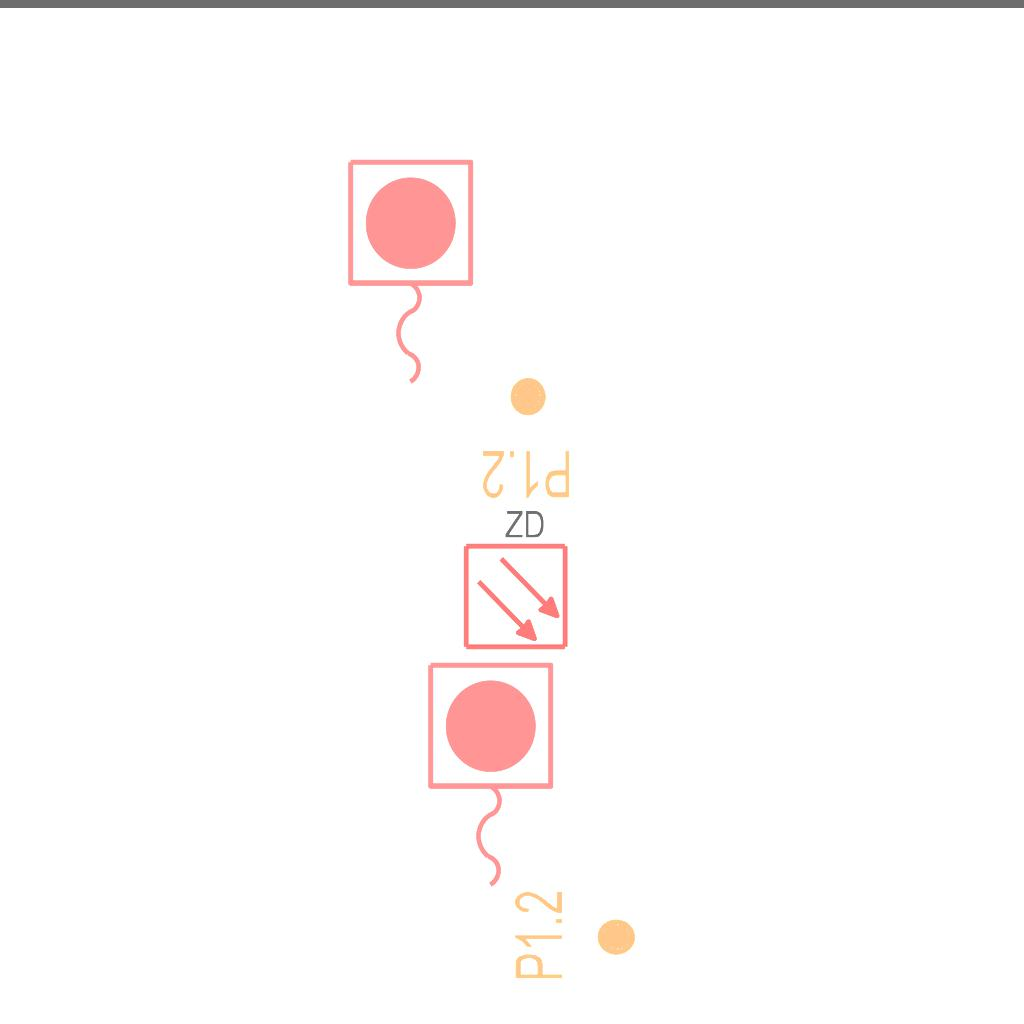Downlight_LED_Einbauleuchten_Flur: (480, 374, 573, 502), (511, 889, 639, 982)
ZD_Melder_in_Zwischendecke_mit_Revisionsoeffnung_mind_40_x_40_cm: (457, 503, 571, 652)
Zugtaster: (417, 654, 561, 898), (337, 151, 481, 395)
